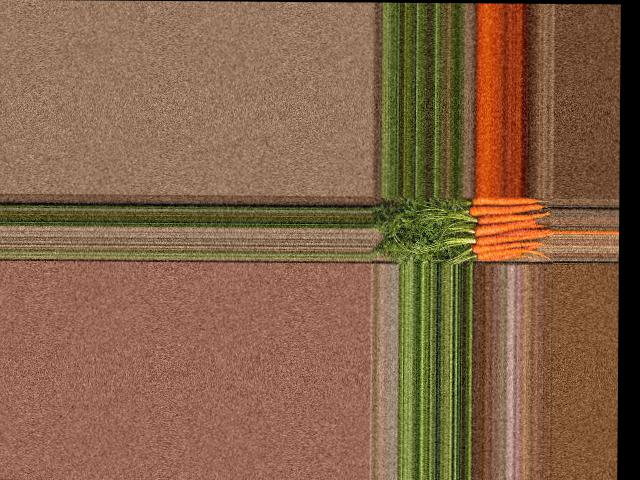carrot: (469, 196, 543, 209)
